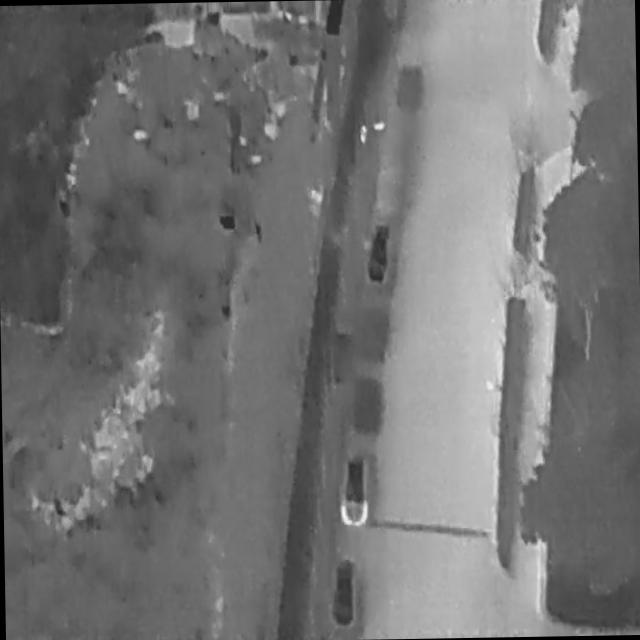person: (361, 124, 369, 143)
